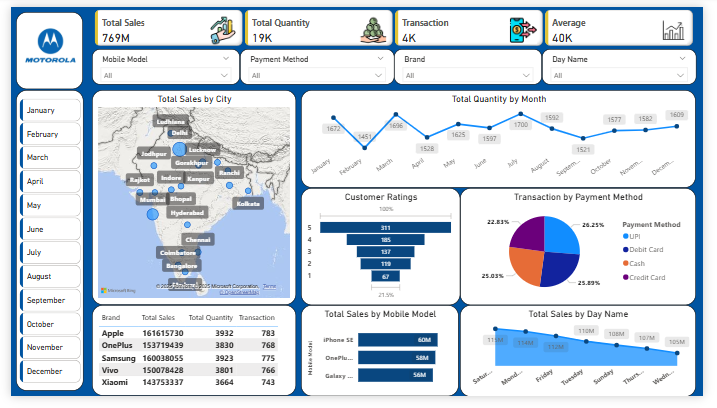

What the dashboard file says about the page in this screenshot:
{"tool":"powerbi","page":{"name":"Page 1","canvas":[1280,720],"ordinal":0},"visuals":[{"type":"shape","box":[10.1,10.1,124.3,142.8],"z":0},{"type":"image","box":[9.9,9.9,124.7,123.3],"z":1000},{"type":"shape","box":[9.9,153.1,124.7,557],"z":2000},{"type":"advancedSlicerVisual","fields":{"Values":["Sales_data.Date.Variation.Date Hierarchy.Month"]},"box":[11.3,164.4,123.3,545.7],"z":3000},{"type":"cardVisual","fields":{"Data":["Sales_data.Total Sales","Sales_data.Total Quantity","Sales_data.Transaction","Sales_data.Average"]},"box":[149.5,0,1118.7,77.3],"z":4000},{"type":"map","fields":{"Category":["Sales_data.City"],"Size":["Sales_data.Total Sales"]},"box":[149.5,152.9,378,398.1],"z":5000},{"type":"lineChart","fields":{"Category":["Sales_data.Date.Variation.Date Hierarchy.Month","Sales_data.Date.Variation.Date Hierarchy.Day"],"Y":["Sales_data.Total Quantity"]},"box":[537.2,153.1,731.3,181.4],"z":6000},{"type":"clusteredBarChart","fields":{"Category":["Sales_data.Mobile Model"],"Y":["Sales_data.Total Sales"]},"box":[537.2,551.3,292,168.7],"z":7000},{"type":"pieChart","fields":{"Y":["Sales_data.Transaction"],"Category":["Sales_data.Payment Method"]},"box":[831.5,334.3,436.7,216.7],"z":8000},{"type":"funnel","title":"Customer Ratings","fields":{"Category":["Sales_data.Customer Ratings"],"Y":["CountNonNull(Sales_data.Customer Name)"]},"box":[537.2,334.5,294.8,216.9],"z":9000},{"type":"areaChart","fields":{"Category":["Sales_data.Day Name"],"Y":["Sales_data.Total Sales"]},"box":[831.5,551,436.7,169.7],"z":10000},{"type":"tableEx","fields":{"Values":["Sales_data.Brand","Sales_data.Total Sales","Sales_data.Total Quantity","Sales_data.Transaction"]},"box":[149.5,551,378,168],"z":11000},{"type":"slicer","fields":{"Values":["Sales_data.Mobile Model"]},"box":[149.5,77.3,273.8,65.5],"z":12000},{"type":"slicer","fields":{"Values":["Sales_data.Payment Method"]},"box":[423.3,77.3,285.6,65.5],"z":13000},{"type":"slicer","fields":{"Values":["Sales_data.Brand"]},"box":[708.9,77.3,273.8,65.5],"z":14000},{"type":"slicer","fields":{"Values":["Sales_data.Day Name"]},"box":[982.7,77.3,285.6,65.5],"z":15000}]}

Visuals, with their boxes in screenshot pixels (x1, y1, x2, y2), scaled from the page's 1280x720 canvas onto the 717x408 screenshot:
shape: x1=6, y1=6, x2=75, y2=87
image: x1=6, y1=6, x2=75, y2=75
shape: x1=6, y1=87, x2=75, y2=402
advancedSlicerVisual - Sales_data.Date.Variation.Date Hierarchy.Month: x1=6, y1=93, x2=75, y2=402
cardVisual - Sales_data.Total Sales x Sales_data.Total Quantity: x1=84, y1=0, x2=710, y2=44
map - Sales_data.City x Sales_data.Total Sales: x1=84, y1=87, x2=295, y2=312
lineChart - Sales_data.Date.Variation.Date Hierarchy.Month x Sales_data.Date.Variation.Date Hierarchy.Day: x1=301, y1=87, x2=711, y2=190
clusteredBarChart - Sales_data.Mobile Model x Sales_data.Total Sales: x1=301, y1=312, x2=464, y2=407
pieChart - Sales_data.Transaction x Sales_data.Payment Method: x1=466, y1=189, x2=710, y2=312
"Customer Ratings" funnel: x1=301, y1=190, x2=466, y2=312
areaChart - Sales_data.Day Name x Sales_data.Total Sales: x1=466, y1=312, x2=710, y2=407
tableEx - Sales_data.Brand x Sales_data.Total Sales: x1=84, y1=312, x2=295, y2=407
slicer - Sales_data.Mobile Model: x1=84, y1=44, x2=237, y2=81
slicer - Sales_data.Payment Method: x1=237, y1=44, x2=397, y2=81
slicer - Sales_data.Brand: x1=397, y1=44, x2=550, y2=81
slicer - Sales_data.Day Name: x1=550, y1=44, x2=710, y2=81
